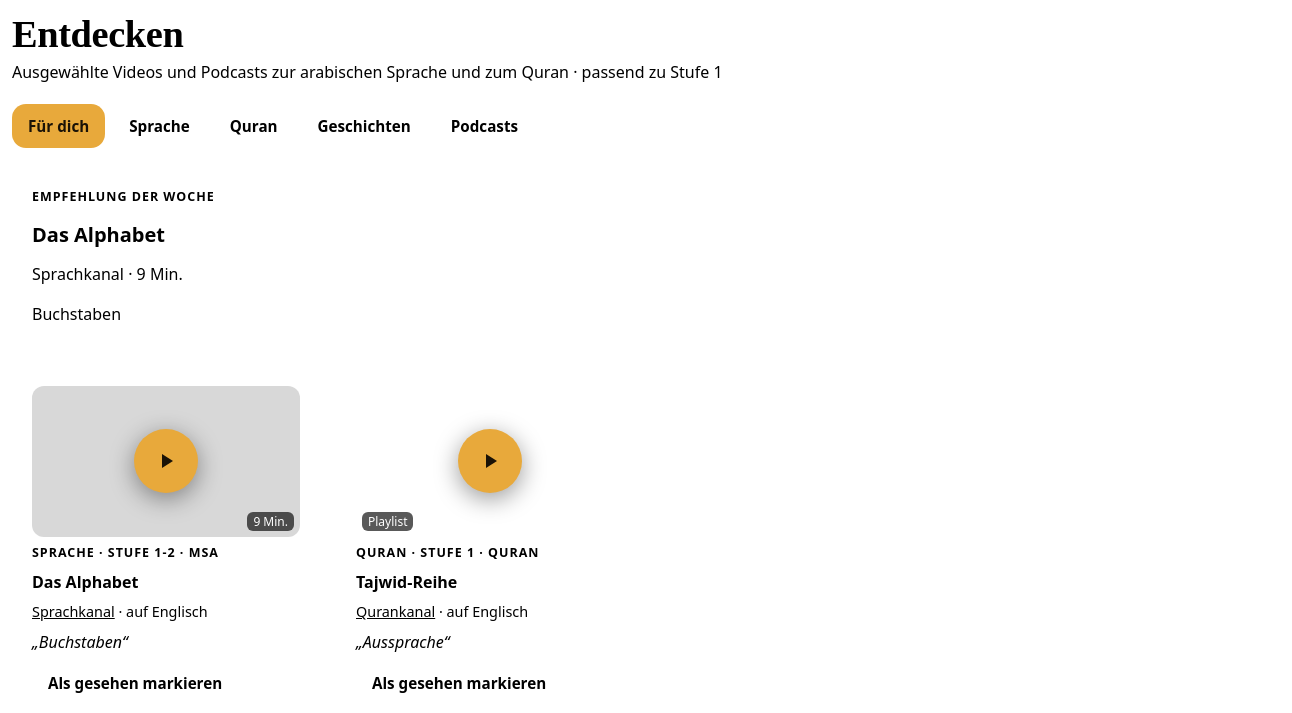
Test: Entdecken (integration) › shows items for the learner level and filters by category
Expected: the text "Das Alphabet" is shown, left=32, top=571, right=138, bottom=593
Expected: the text "Tajwid-Reihe" is shown, left=356, top=571, right=457, bottom=593
Click the button "Podcasts" at (484, 126), box left=435, top=104, right=534, bottom=148
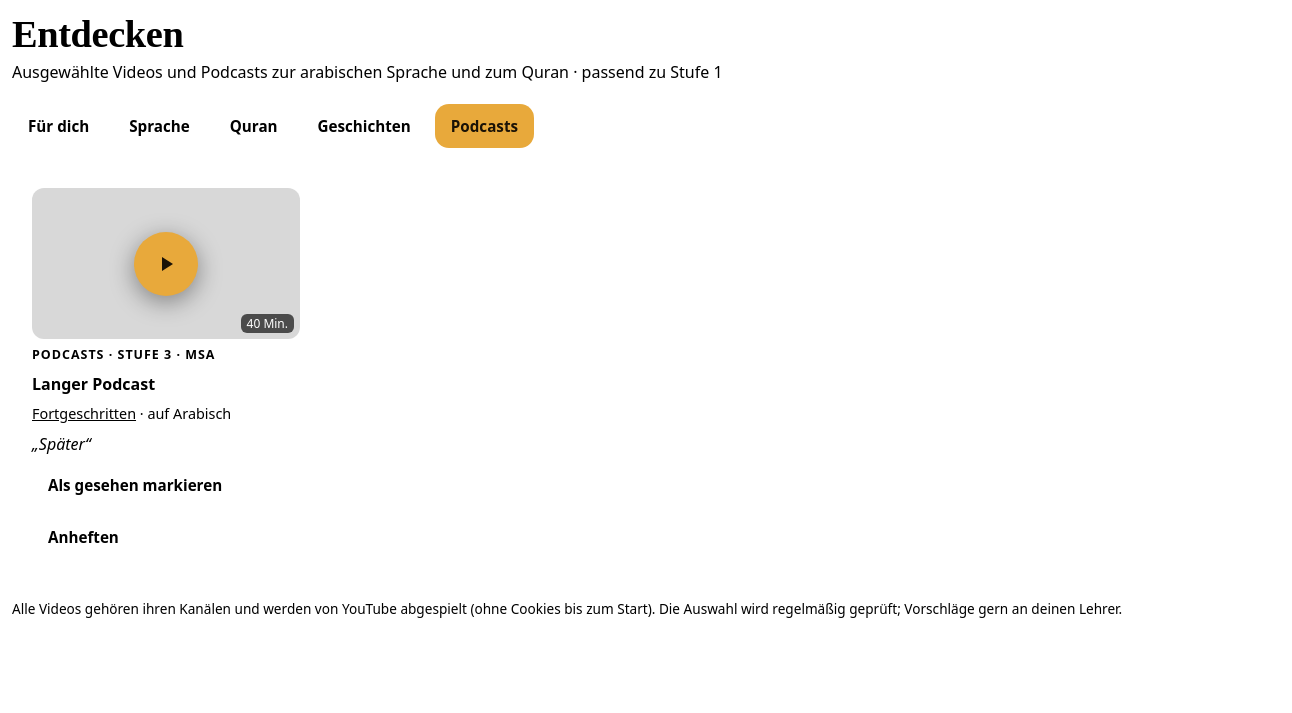
Expected: the text "Langer Podcast" is shown, left=32, top=373, right=155, bottom=395
Expected: the heading "Das Alphabet" is gone
